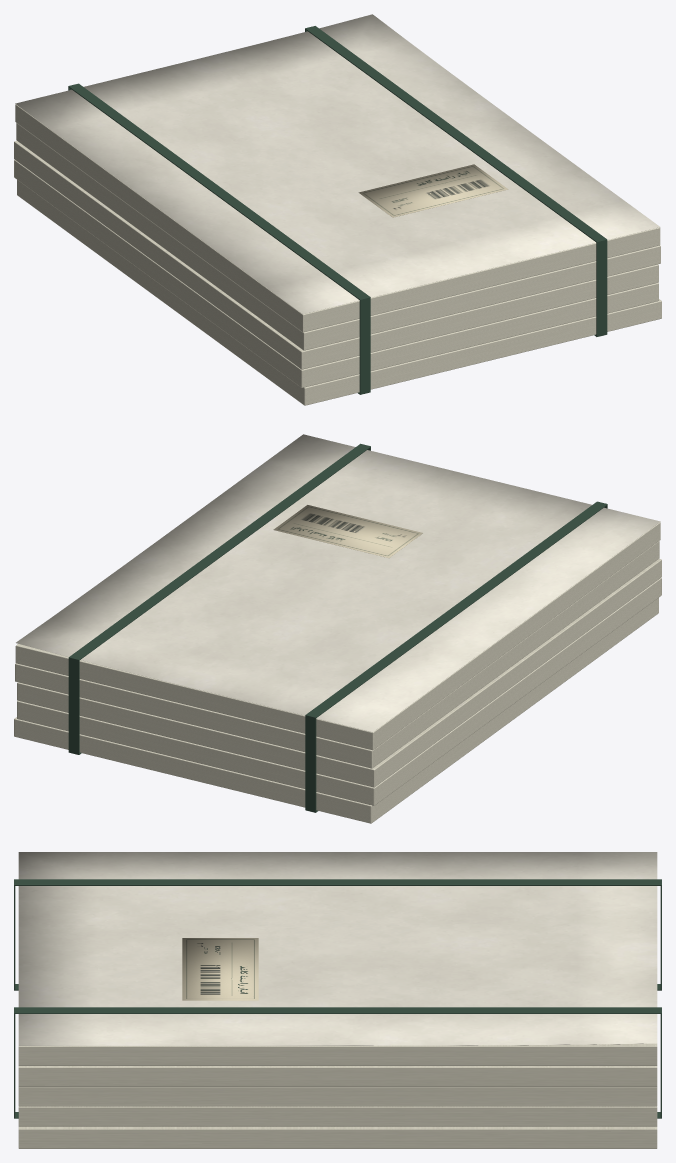
The model's file is paper-bundle.glb.
The picture shows the model from 3 angles, top to bottom: view 1: azimuth 30°, elevation 25°; view 2: azimuth 150°, elevation 25°; view 3: azimuth 270°, elevation 25°; orthographic projection. The views are drawn at different scales.
Visible parts, largest first — view 1: Loose top sheet, Layered large-format paper.002, Layered large-format paper.001, Layered large-format paper.004, Layered large-format paper.003, Layered large-format paper, Batch label, Tensioned strapping.003, Tensioned strapping.001, Strap along cut edge.002, Strap along cut edge; view 2: Loose top sheet, Layered large-format paper.002, Layered large-format paper.001, Layered large-format paper.004, Layered large-format paper.003, Layered large-format paper, Batch label, Tensioned strapping.003, Tensioned strapping.001, Strap along cut edge.003, Strap along cut edge.001; view 3: Loose top sheet, Layered large-format paper, Layered large-format paper.001, Layered large-format paper.003, Layered large-format paper.004, Layered large-format paper.002, Batch label, Tensioned strapping.003, Tensioned strapping.001.
Part boxes in pixels (x1=…): Loose top sheet: x1=15, y1=14, x2=660, y2=314; Layered large-format paper.002: x1=14, y1=141, x2=658, y2=369; Layered large-format paper.001: x1=14, y1=160, x2=658, y2=387; Layered large-format paper.004: x1=15, y1=104, x2=660, y2=332; Layered large-format paper.003: x1=16, y1=123, x2=660, y2=350; Layered large-format paper: x1=17, y1=180, x2=661, y2=405; Batch label: x1=358, y1=164, x2=508, y2=217; Tensioned strapping.003: x1=305, y1=26, x2=606, y2=242; Tensioned strapping.001: x1=68, y1=84, x2=370, y2=299; Strap along cut edge.002: x1=596, y1=239, x2=607, y2=336; Strap along cut edge: x1=359, y1=297, x2=370, y2=393; Loose top sheet: x1=16, y1=434, x2=660, y2=732; Layered large-format paper.002: x1=17, y1=559, x2=661, y2=787; Layered large-format paper.001: x1=17, y1=577, x2=661, y2=805; Layered large-format paper.004: x1=15, y1=522, x2=660, y2=750; Layered large-format paper.003: x1=15, y1=541, x2=659, y2=768; Layered large-format paper: x1=14, y1=598, x2=658, y2=823; Batch label: x1=273, y1=505, x2=422, y2=557; Tensioned strapping.003: x1=68, y1=444, x2=370, y2=660; Tensioned strapping.001: x1=305, y1=501, x2=607, y2=717; Strap along cut edge.003: x1=68, y1=657, x2=79, y2=754; Strap along cut edge.001: x1=305, y1=715, x2=316, y2=811; Loose top sheet: x1=18, y1=852, x2=657, y2=1045; Layered large-format paper: x1=18, y1=1126, x2=657, y2=1148; Layered large-format paper.001: x1=18, y1=1106, x2=657, y2=1126; Layered large-format paper.003: x1=18, y1=1066, x2=657, y2=1086; Layered large-format paper.004: x1=18, y1=1043, x2=657, y2=1065; Layered large-format paper.002: x1=18, y1=1087, x2=657, y2=1106; Batch label: x1=182, y1=938, x2=258, y2=1000; Tensioned strapping.003: x1=14, y1=1007, x2=661, y2=1013; Tensioned strapping.001: x1=14, y1=879, x2=661, y2=885.
Bounding box in the file's own units: 0.7161 × 0.181 × 1.
4 materials, 3 textured.
